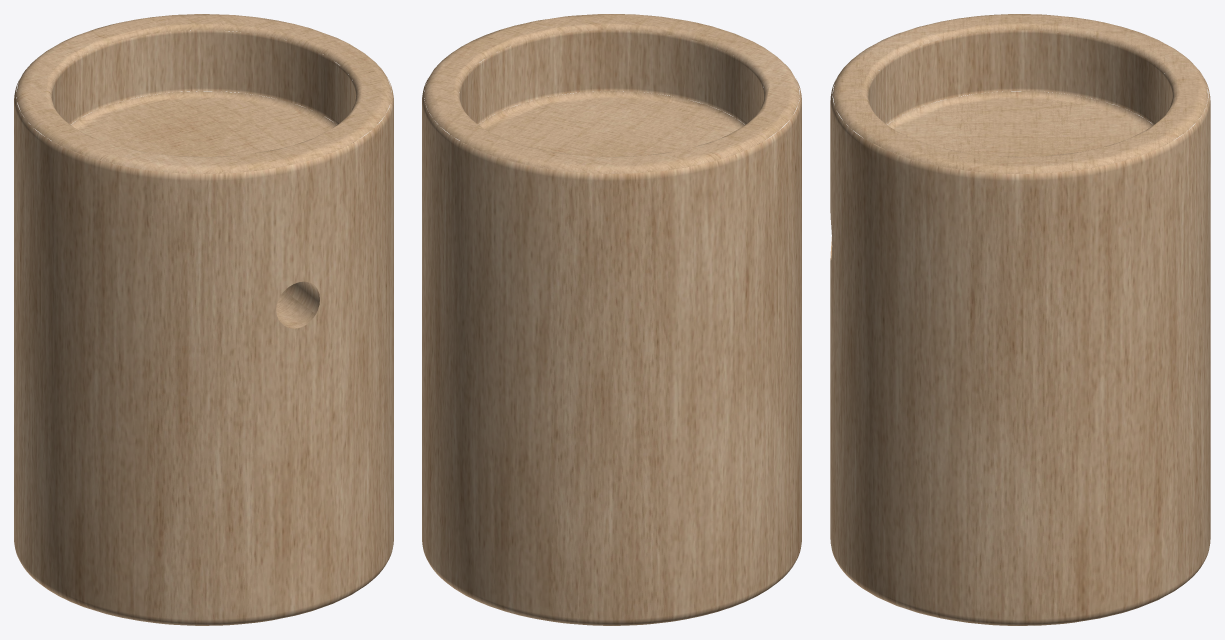
The model's file is rook-white.glb.
The picture shows the model from 3 angles, left to right: view 1: azimuth 30°, elevation 25°; view 2: azimuth 150°, elevation 25°; view 3: azimuth 270°, elevation 25°; orthographic projection.
Parts seen in each view (by area): view 1: Cylindra_Věž_bílý; view 2: Cylindra_Věž_bílý; view 3: Cylindra_Věž_bílý.
Boxes of the visible parts, box(x1,y1,x2,y2) form: Cylindra_Věž_bílý: box(14, 14, 393, 625); Cylindra_Věž_bílý: box(422, 14, 801, 625); Cylindra_Věž_bílý: box(830, 14, 1210, 625).
Bounding box in the file's own units: 0.5325 × 0.71 × 0.5325.
Materials: 2 (2 with a texture image).
